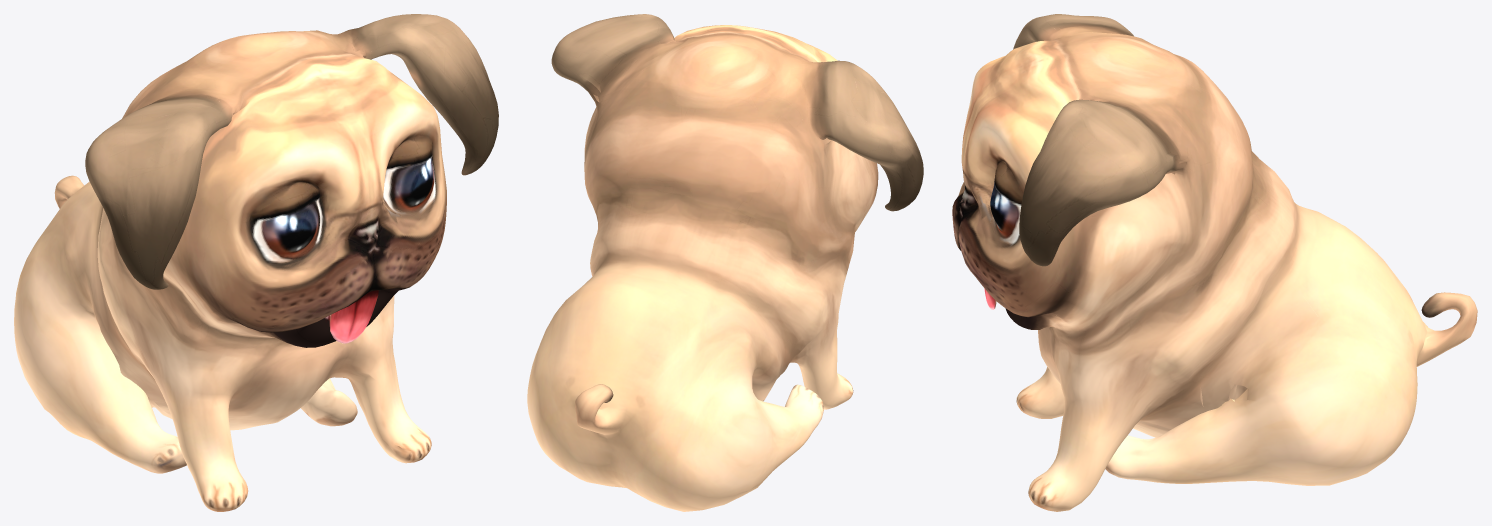
File: pug_3d_model_for_games.glb
3 views of the same model, side by side, from view 1: azimuth 30°, elevation 25°; view 2: azimuth 150°, elevation 25°; view 3: azimuth 270°, elevation 25° (orthographic). The views are drawn at different scales.
Parts seen in each view (by area): view 1: Pug1; view 2: Pug1; view 3: Pug1.
Boxes of the visible parts, <box> form: Pug1: <box>14,14,498,511</box>; Pug1: <box>527,14,923,511</box>; Pug1: <box>952,14,1477,511</box>.
Size of the model in its own units: 1.11 by 1.19 by 1.34.
Materials: 1 (1 with a texture image).
